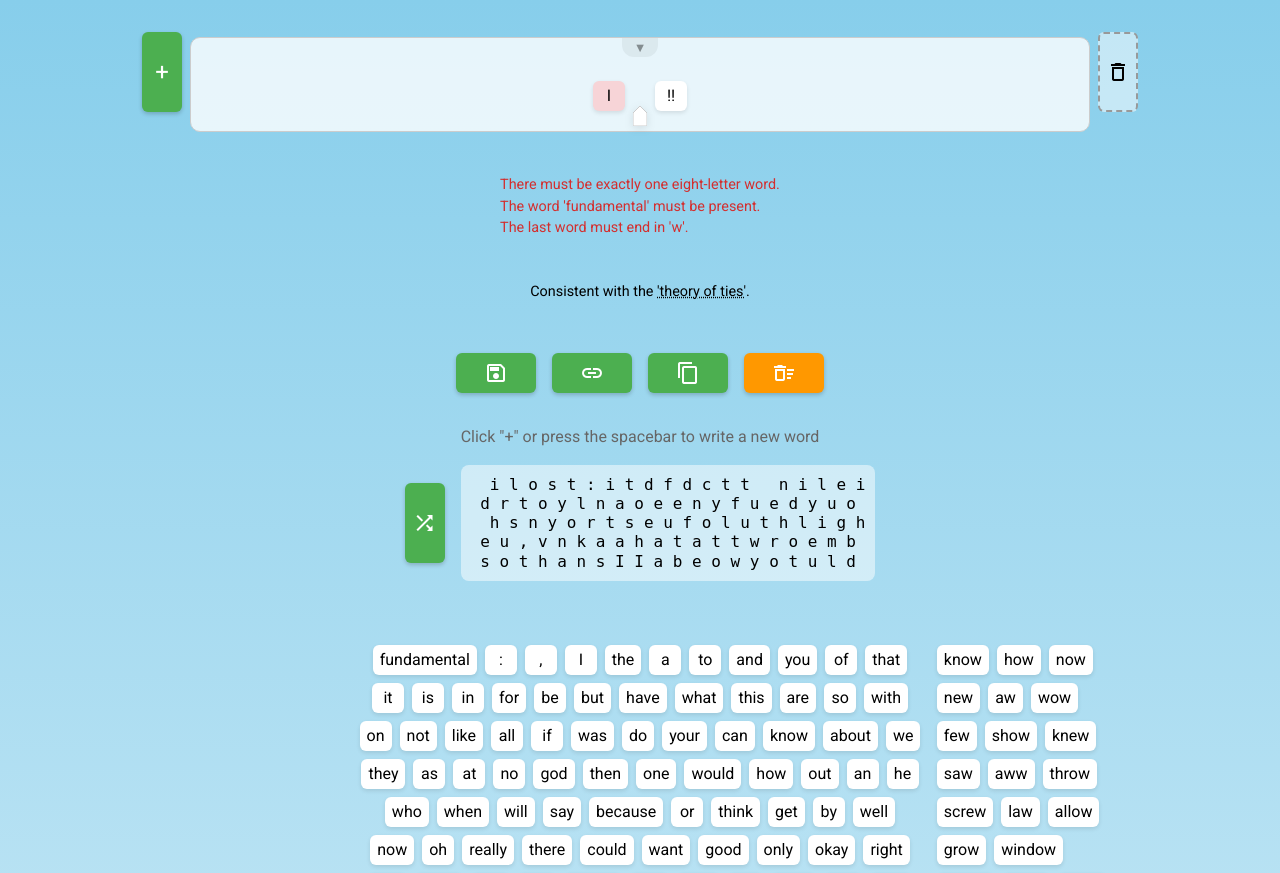
Scenario: App Interaction › allows creating a new word and typing removes letters from pool
Click the button "+". click: point(162, 72)
box: [142,32,182,112]
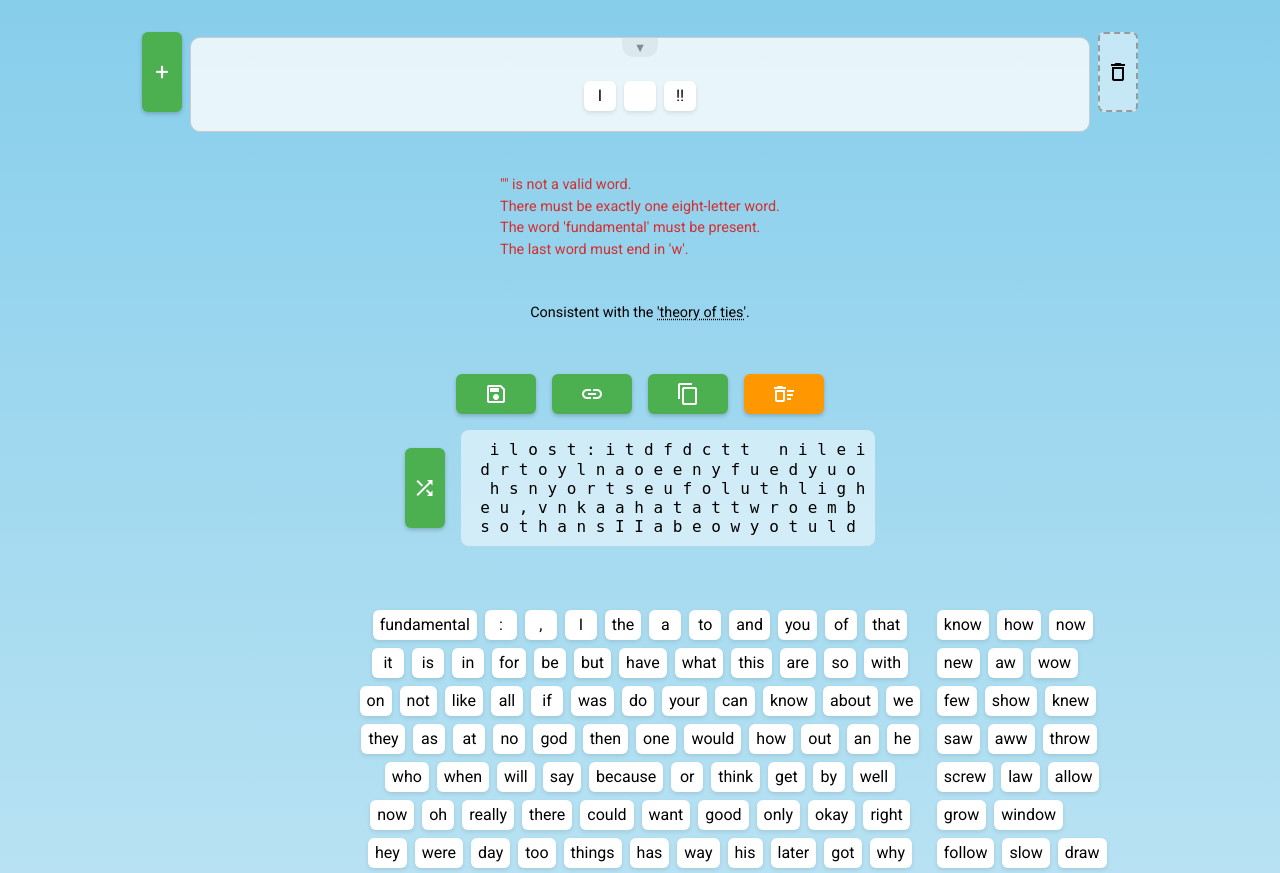
Type keys "t"
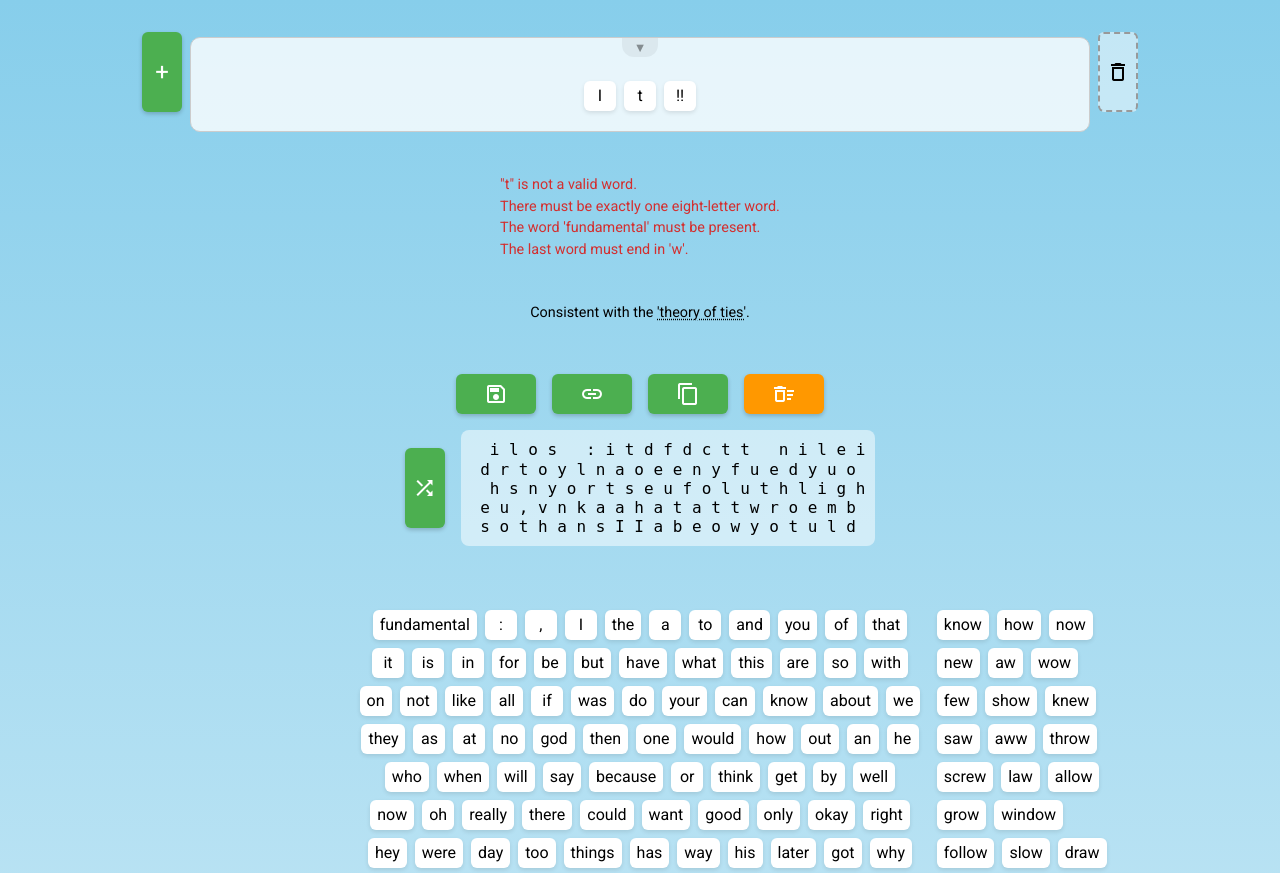
Expected: the field holds "t", [636,86,644,105]
